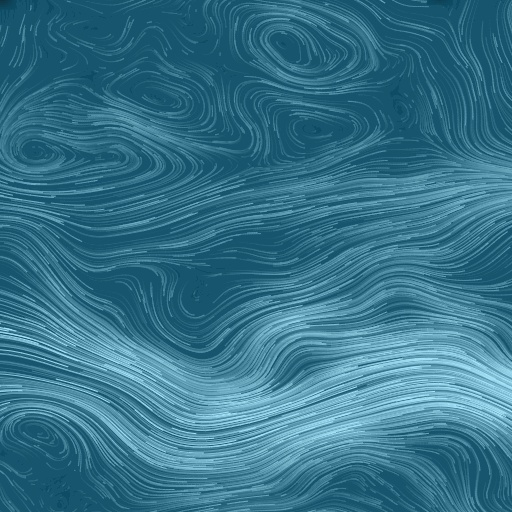eddy: (264, 101, 367, 163), (246, 18, 350, 77), (106, 67, 199, 122), (3, 413, 73, 462), (2, 134, 70, 175)
